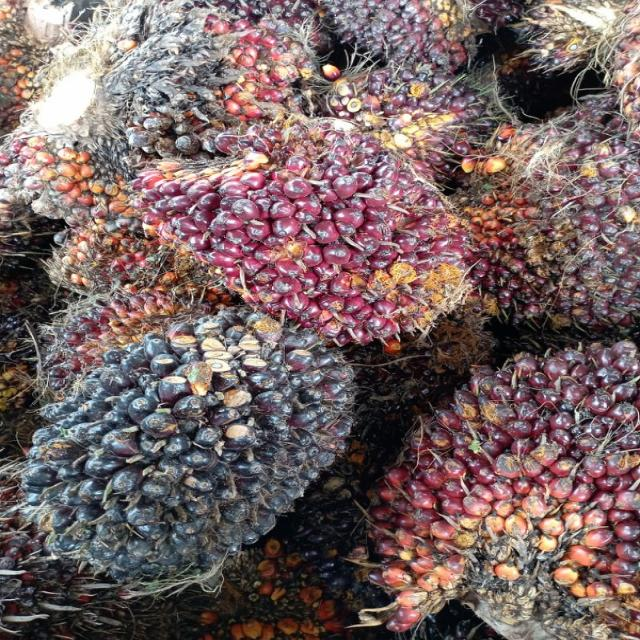fraksi 00: (0, 289, 445, 603)
fraksi 1: (98, 90, 534, 359)
